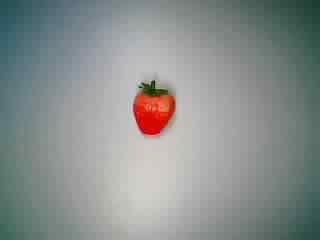strawberry: (118, 77, 184, 143)
